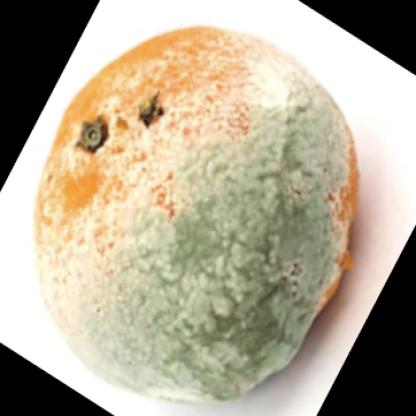rotten: (38, 27, 355, 406)
